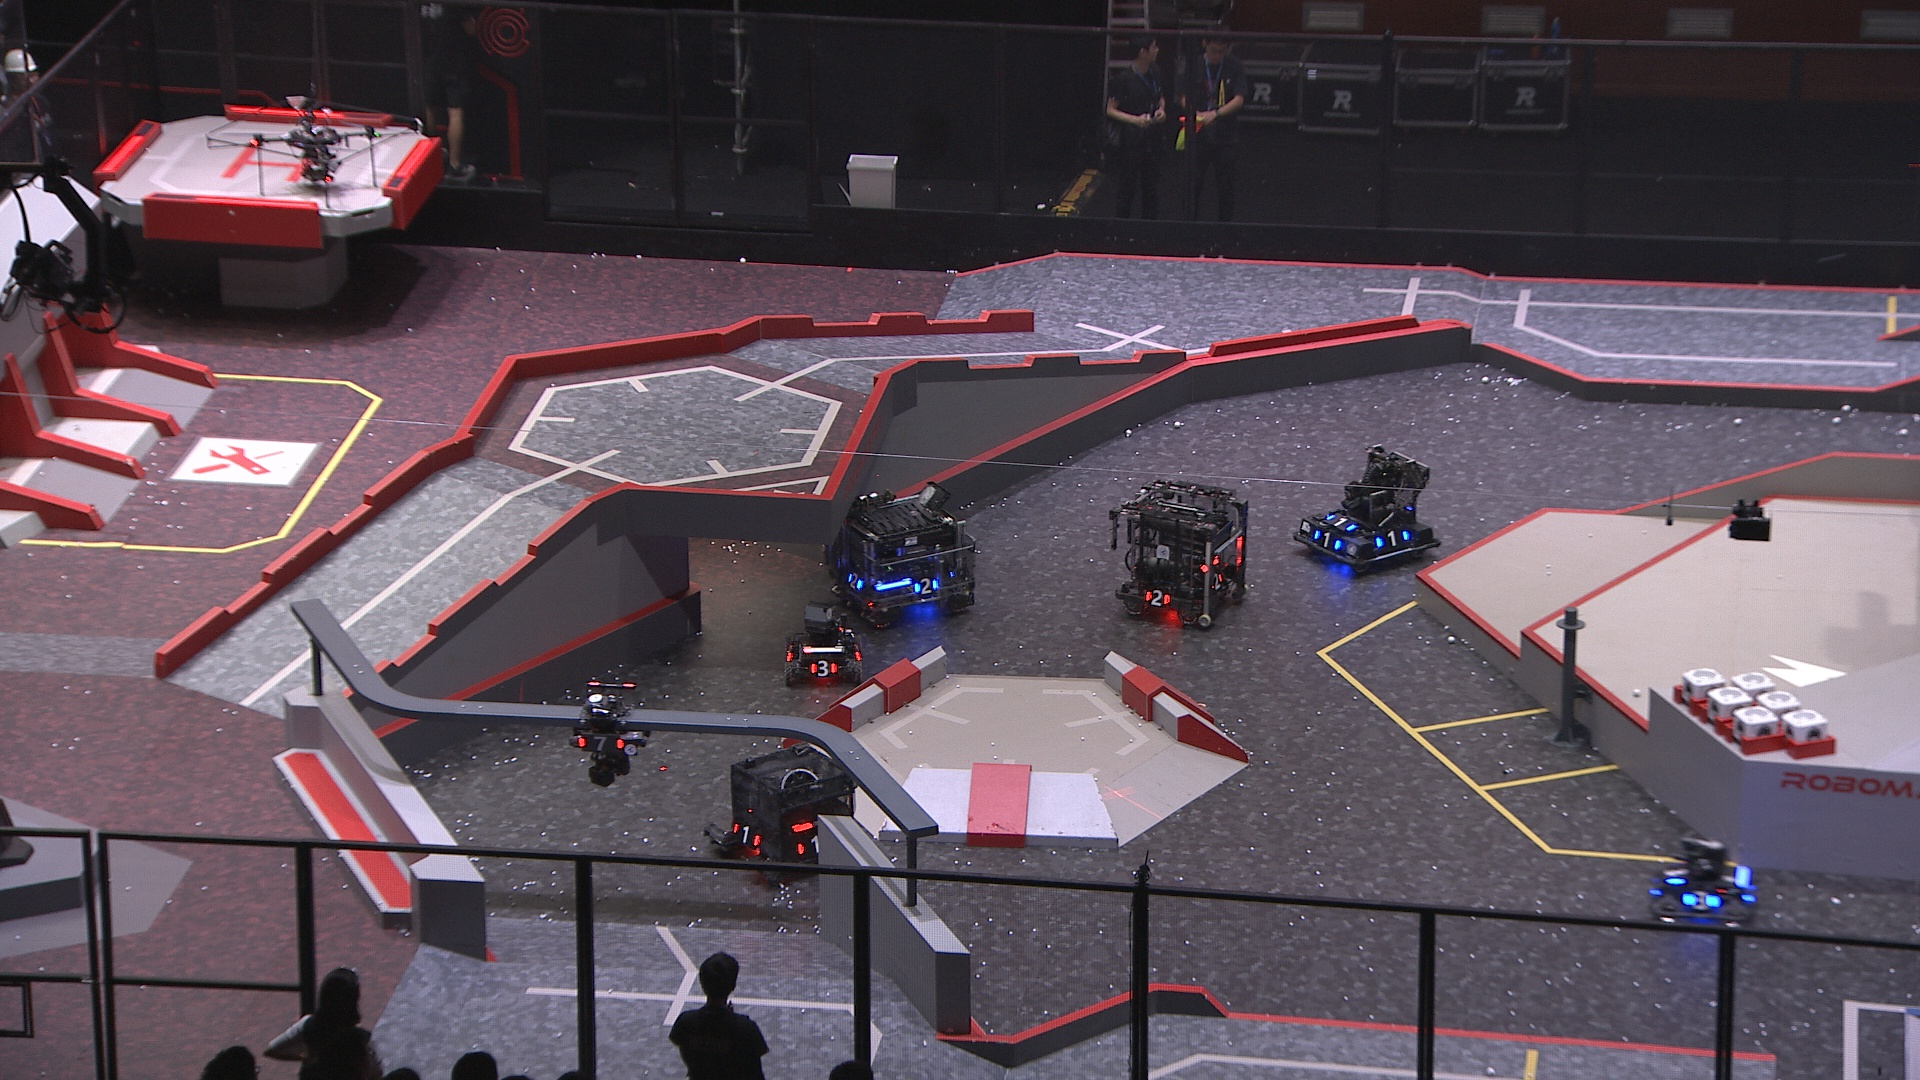armor: (1680, 887, 1721, 913), (575, 735, 626, 754), (1373, 527, 1414, 551), (731, 822, 761, 849), (795, 832, 825, 858), (1662, 862, 1692, 885), (1143, 585, 1171, 609), (1313, 529, 1340, 553), (1327, 510, 1356, 531), (913, 576, 940, 597), (808, 659, 837, 679), (844, 570, 864, 591), (1207, 568, 1224, 589)
car: (704, 742, 880, 891), (818, 485, 981, 632), (1112, 476, 1257, 637), (1292, 443, 1441, 578), (1651, 829, 1764, 928), (778, 604, 862, 690)
watcher: (566, 679, 651, 787)
